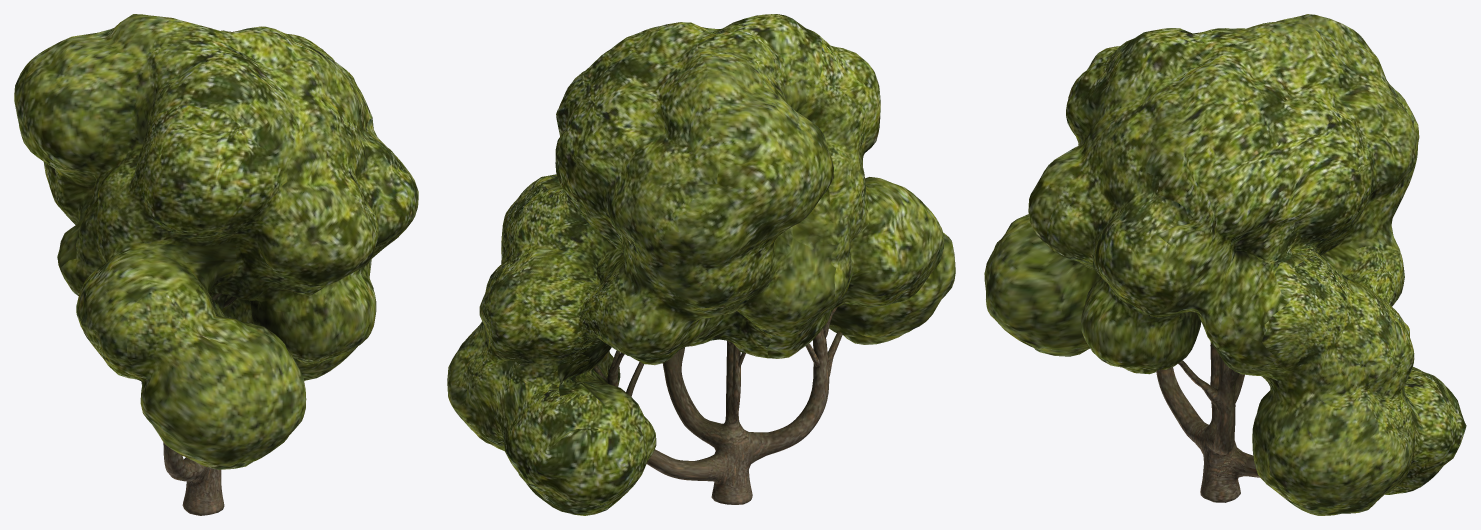
Rendered from oak.obj.
3 renders of one model, left to right at view 1: azimuth 30°, elevation 25°; view 2: azimuth 150°, elevation 25°; view 3: azimuth 270°, elevation 25°, orthographic. The views are drawn at different scales.
Parts seen in each view (by area): view 1: 10445_Oak_Tree_v1_max2010_iteration-1.002; view 2: 10445_Oak_Tree_v1_max2010_iteration-1.002; view 3: 10445_Oak_Tree_v1_max2010_iteration-1.002.
Part boxes in pixels (x1=…): 10445_Oak_Tree_v1_max2010_iteration-1.002: x1=14, y1=14, x2=418, y2=515; 10445_Oak_Tree_v1_max2010_iteration-1.002: x1=447, y1=14, x2=955, y2=515; 10445_Oak_Tree_v1_max2010_iteration-1.002: x1=984, y1=14, x2=1466, y2=515.
Size of the model in its own units: 9.98 by 11.97 by 11.36.
1 material, 1 textured.
